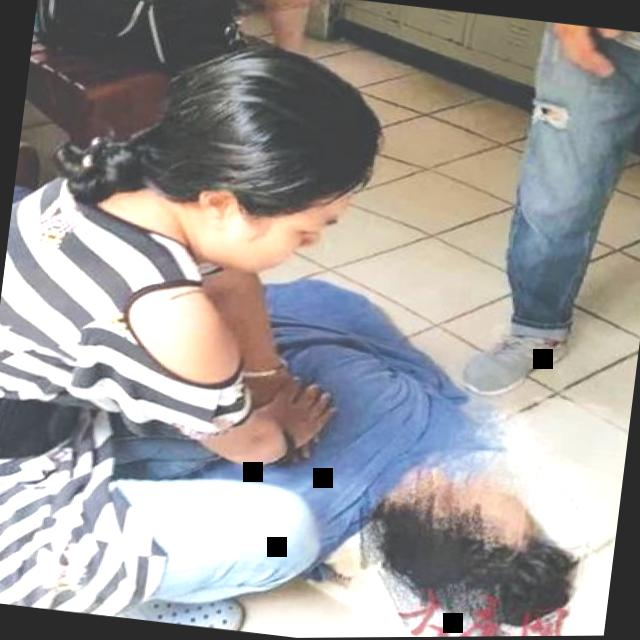Fall-Detected: (191, 241, 613, 639)
